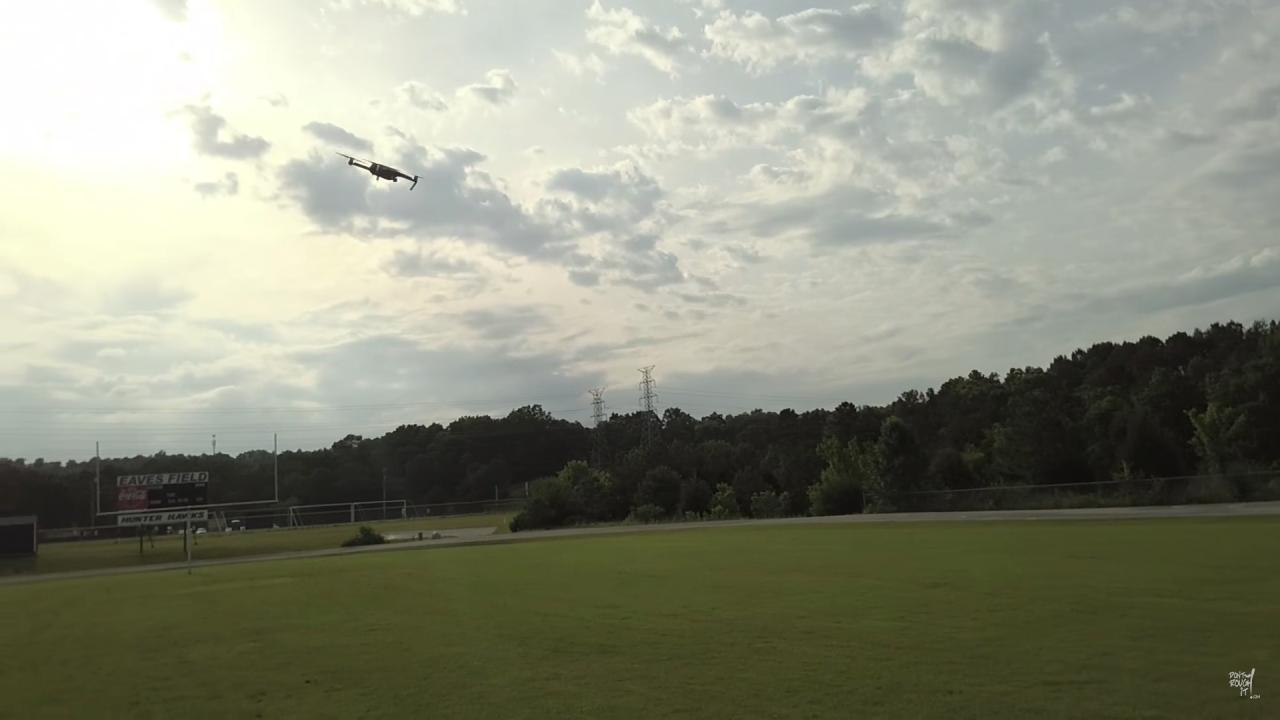Drone: (325, 139, 426, 203)
